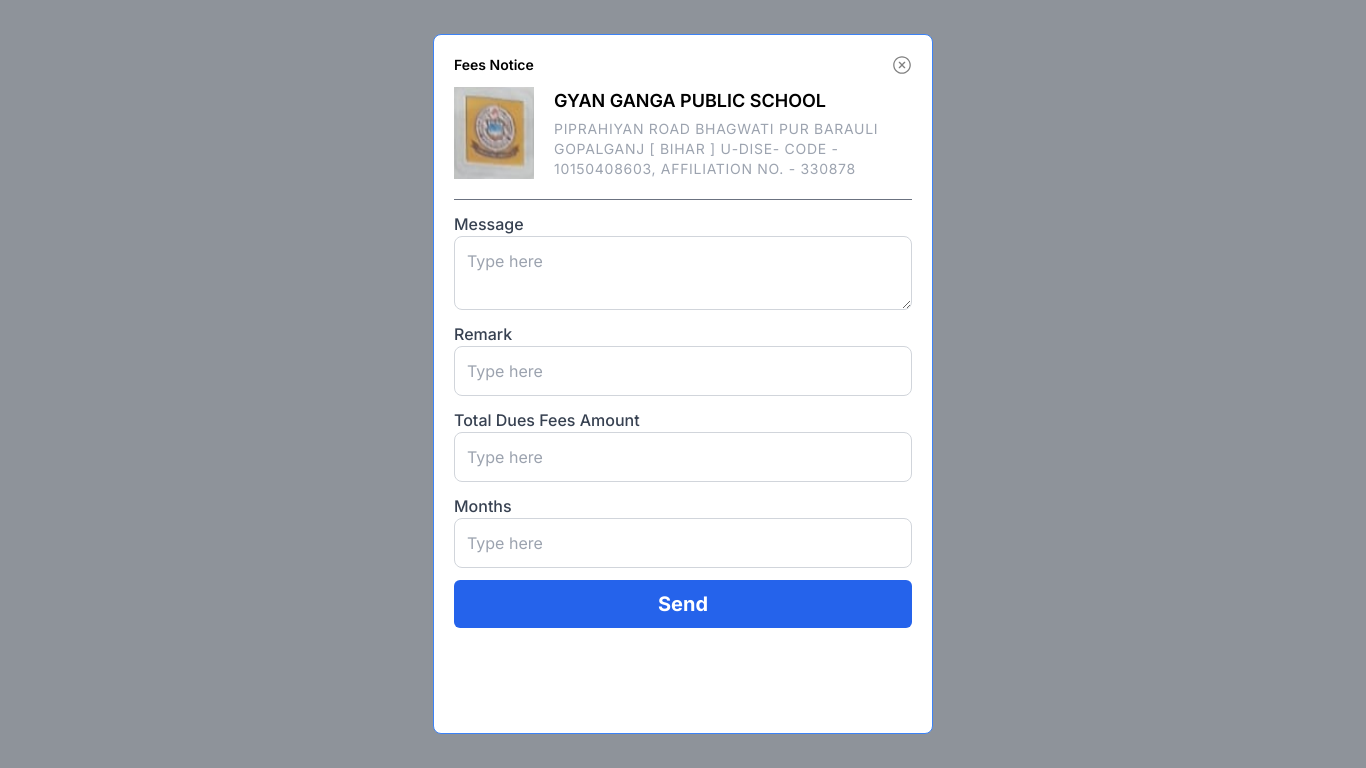
Test: FeeNotice Component › handles form submission with error
Type "Test Message" into the text box labelled "Message" at (683, 273), box x1=454 y1=236 x2=912 y2=310
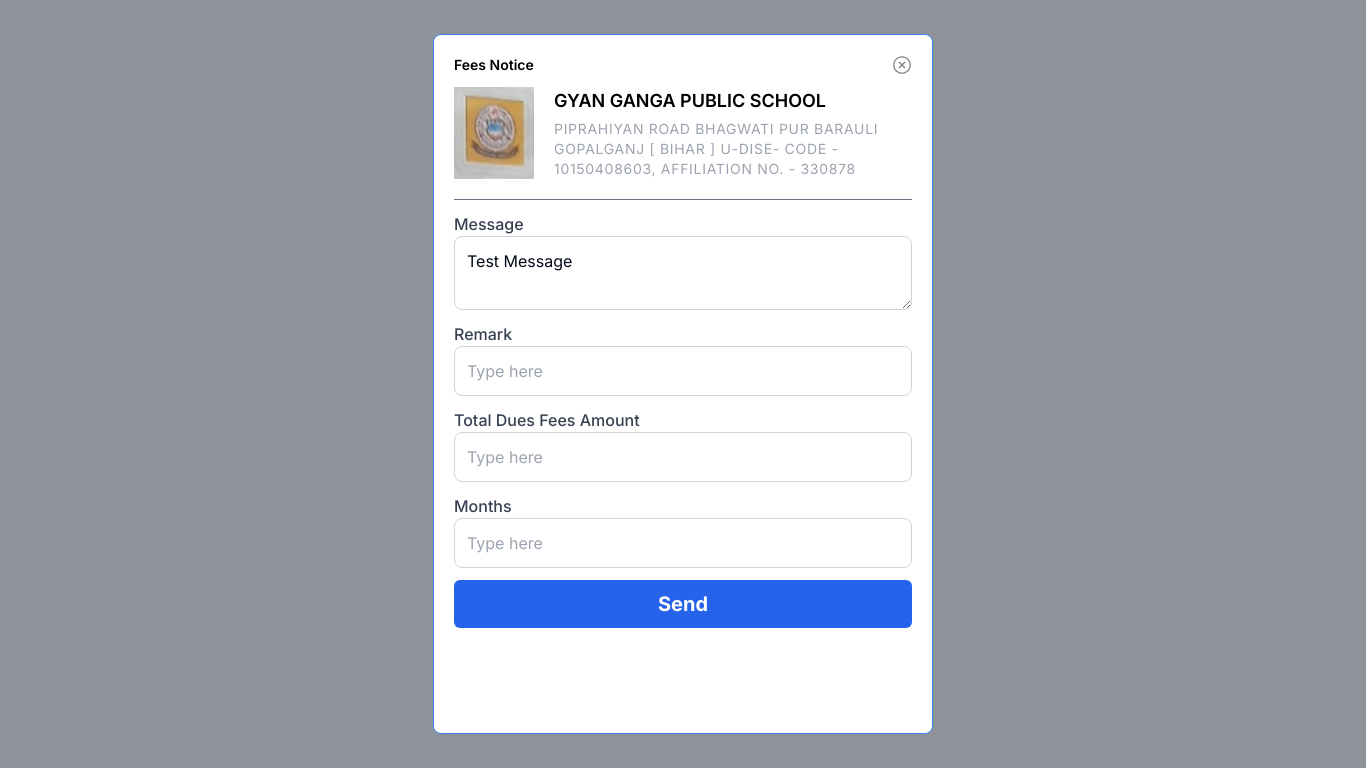
Type "Test Remark" into the field labelled "Remark" at (683, 371), box x1=454 y1=346 x2=912 y2=396
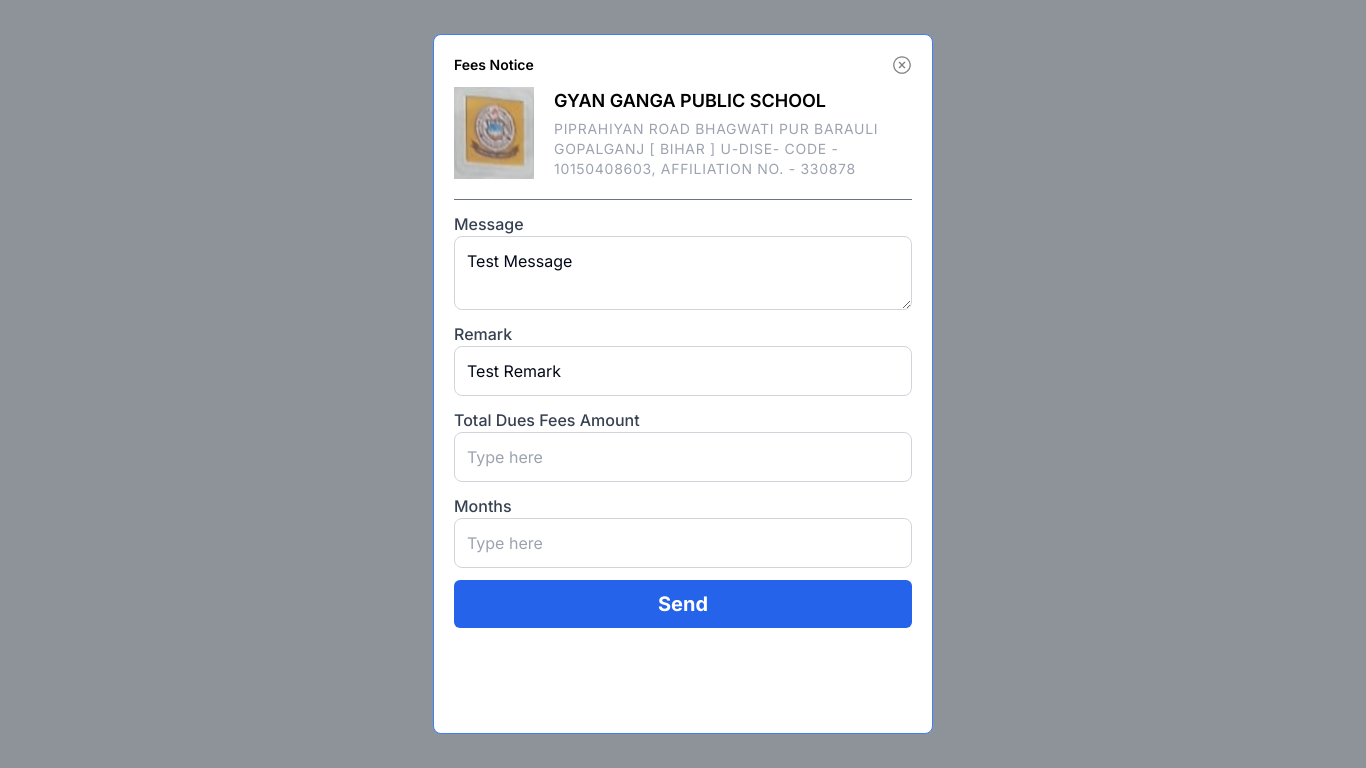
Type "1000" into the number field labelled "Total Dues Fees Amount" at (683, 457), box x1=454 y1=432 x2=912 y2=482
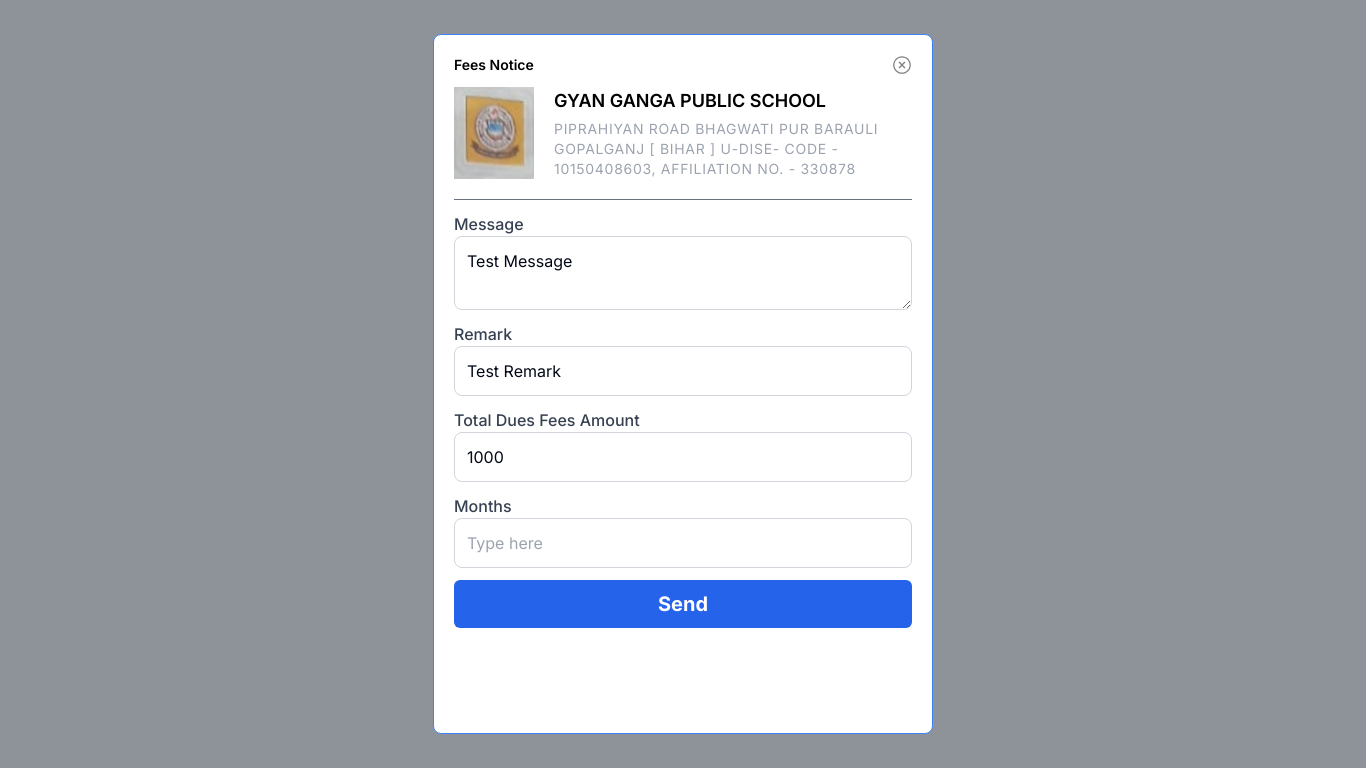
Type "August" into the field labelled "Months" at (683, 543), box x1=454 y1=518 x2=912 y2=568
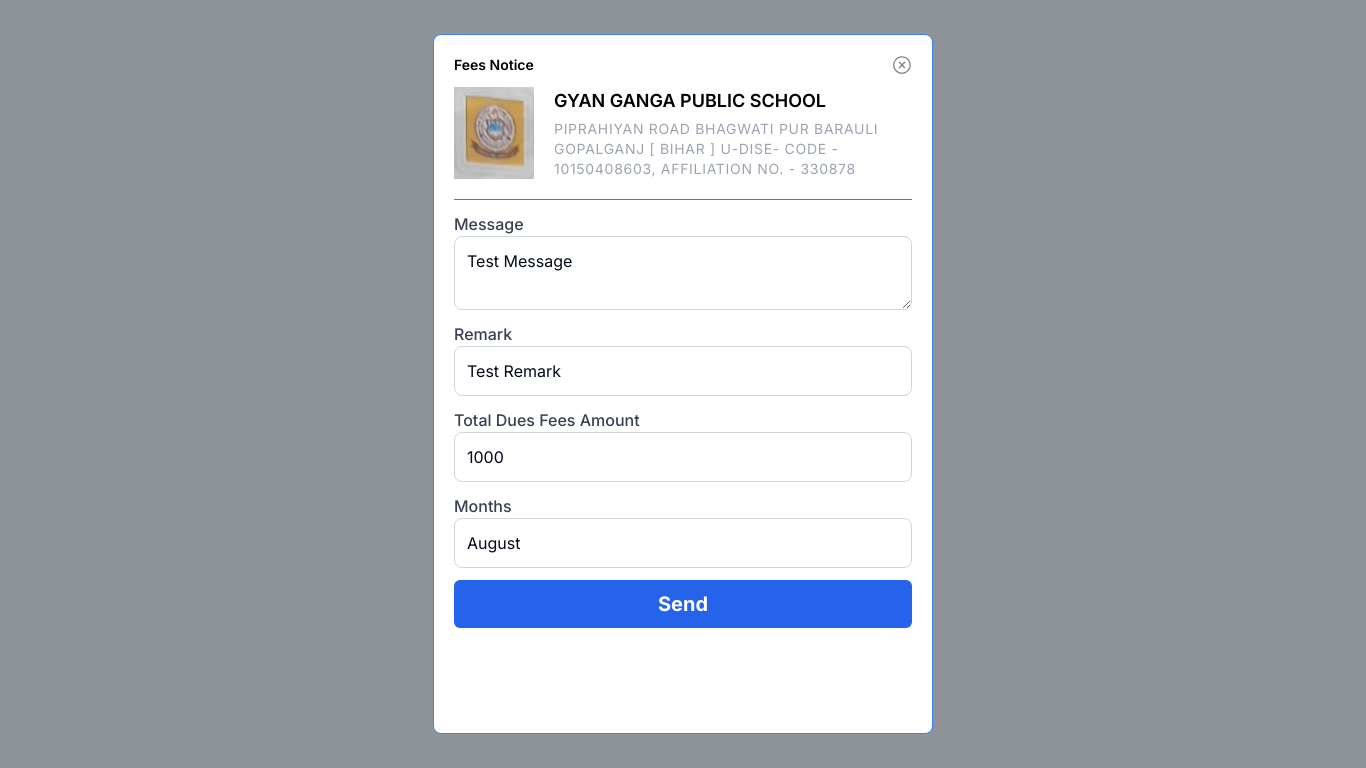
Click the button "Send" at (683, 604), box x1=454 y1=580 x2=912 y2=628
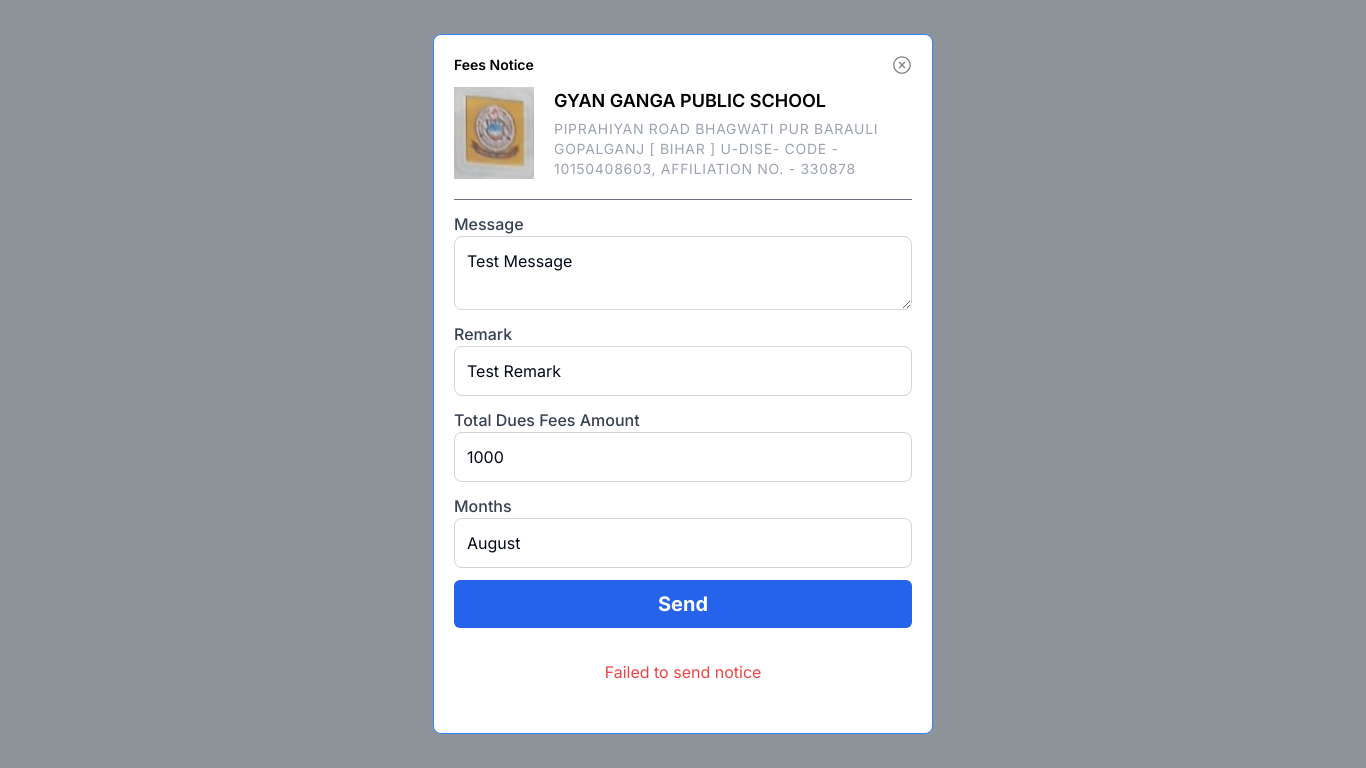
Now the text "Failed to send notice" is shown, box x1=605 y1=662 x2=761 y2=682
